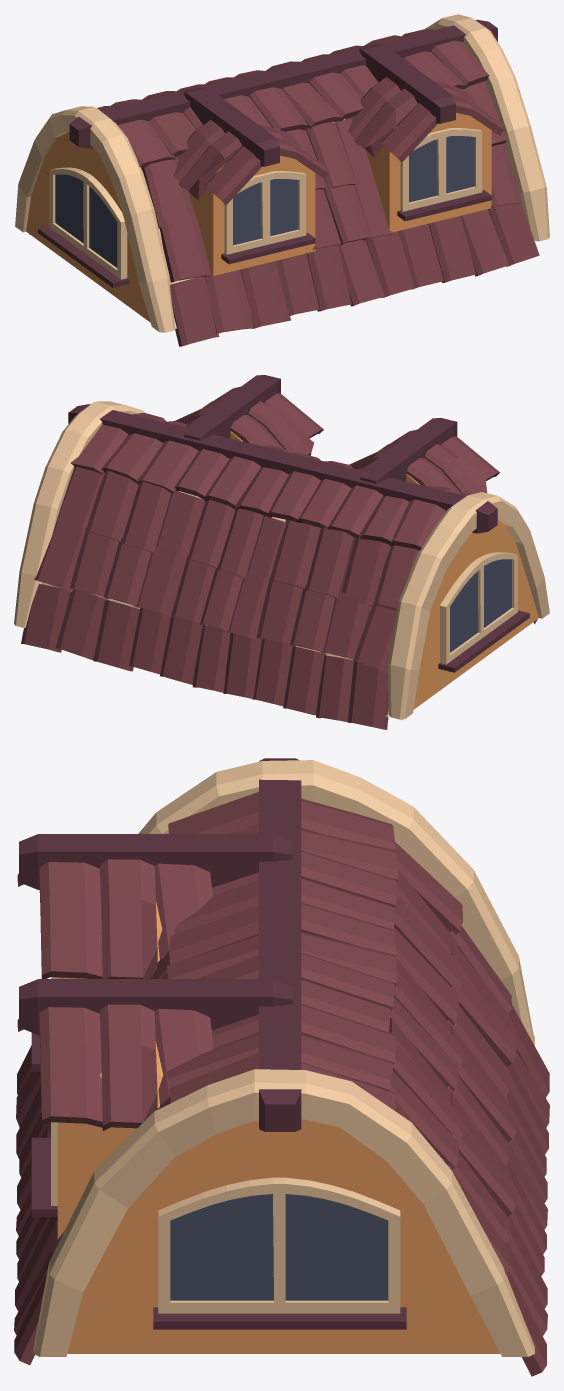
Rendered from Testhouse_Roof_VAR1.fbx.
3 views of the same model, one above another, from view 1: azimuth 30°, elevation 25°; view 2: azimuth 150°, elevation 25°; view 3: azimuth 270°, elevation 25° (orthographic). The views are drawn at different scales.
Visible parts, largest first — view 1: Testhouse_Roof.001; view 2: Testhouse_Roof.001; view 3: Testhouse_Roof.001.
Boxes of the visible parts, left/top/right/bottom form: Testhouse_Roof.001: left=14, top=14, right=549, bottom=346; Testhouse_Roof.001: left=14, top=375, right=549, bottom=729; Testhouse_Roof.001: left=14, top=758, right=549, bottom=1376.
Bounding box in the file's own units: 219 × 143 × 91.71.
